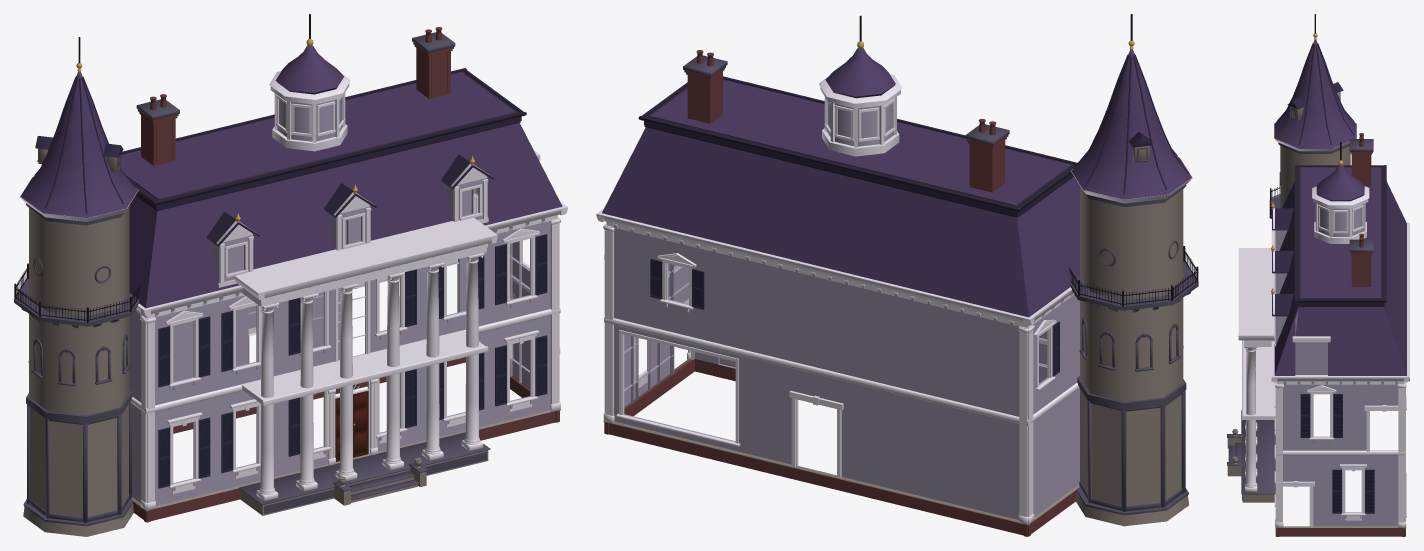
The model's file is exterior.glb.
3 views of the same model, side by side, from view 1: azimuth 30°, elevation 25°; view 2: azimuth 150°, elevation 25°; view 3: azimuth 270°, elevation 25° (orthographic). The views are drawn at different scales.
Visible parts, largest first — view 1: Ext_front, Ext_mansard-front, Ext_roof, Ext_tower-upper, Ext_porch, Ext_back, Ext_tower7, Ext_tower0, Ext_left, Ext_right, Ext_mansard-left, Ext_tower6 (+3 smaller); view 2: Ext_back, Ext_mansard-back, Ext_roof, Ext_tower-upper, Ext_left, Ext_mansard-left, Ext_right, Ext_tower5, Ext_tower4, Ext_tower6, Ext_tower-base, Ext_front (+2 smaller); view 3: Ext_right, Ext_roof, Ext_front, Ext_tower-upper, Ext_mansard-right, Ext_mansard-front, Ext_mansard-back, Ext_porch, Ext_left, Ext_back.
Boxes of the visible parts, box(x1,y1,x2,y2) form: Ext_front: box(140, 207, 566, 522); Ext_mansard-front: box(146, 121, 562, 308); Ext_roof: box(120, 14, 526, 209); Ext_tower-upper: box(14, 37, 139, 423); Ext_porch: box(239, 432, 490, 515); Ext_back: box(173, 189, 471, 433); Ext_tower7: box(49, 420, 87, 522); Ext_tower0: box(87, 414, 121, 521); Ext_left: box(129, 303, 150, 522); Ext_right: box(471, 188, 567, 422); Ext_mansard-left: box(129, 195, 157, 307); Ext_tower6: box(28, 406, 49, 518); Ext_back: box(596, 214, 1034, 536); Ext_mansard-back: box(602, 125, 1028, 317); Ext_roof: box(638, 15, 1077, 216); Ext_tower-upper: box(1070, 14, 1198, 410); Ext_left: box(1023, 287, 1079, 536); Ext_mansard-left: box(1017, 176, 1080, 316); Ext_right: box(596, 208, 694, 434); Ext_tower5: box(1126, 405, 1165, 511); Ext_tower4: box(1091, 402, 1126, 511); Ext_tower6: box(1165, 390, 1185, 505); Ext_tower-base: box(1076, 487, 1188, 526); Ext_front: box(695, 331, 1047, 383); Ext_right: box(1271, 375, 1409, 536); Ext_roof: box(1294, 133, 1386, 305); Ext_front: box(1238, 225, 1279, 536); Ext_tower-upper: box(1269, 14, 1356, 218); Ext_mansard-right: box(1274, 306, 1406, 375); Ext_mansard-front: box(1271, 182, 1298, 374); Ext_mansard-back: box(1382, 181, 1406, 374); Ext_porch: box(1227, 410, 1275, 502); Ext_left: box(1271, 222, 1409, 374); Ext_back: box(1402, 225, 1409, 536).
Size of the model in its own units: 34.96 by 31.05 by 14.44.
